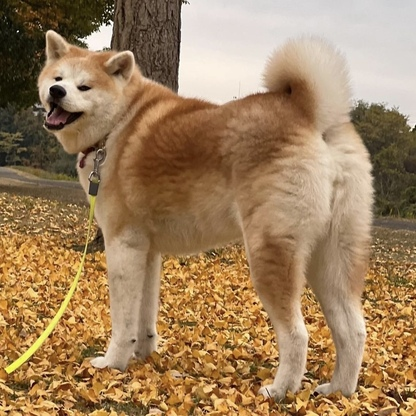akita: (33, 24, 384, 406)
